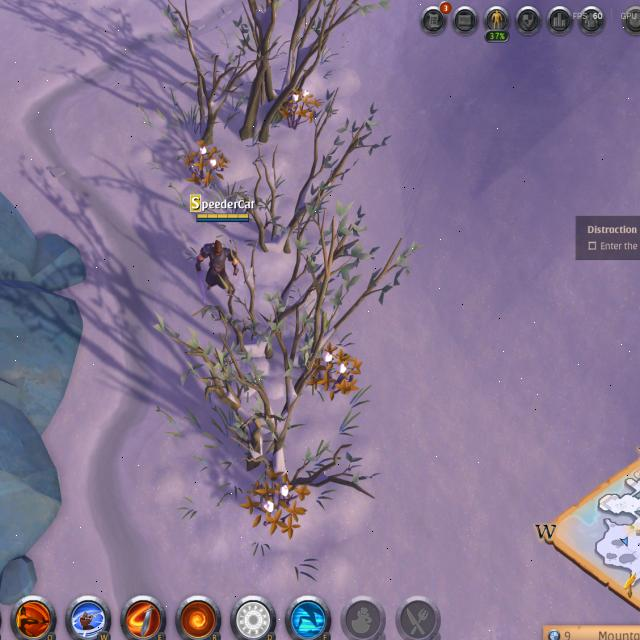cotton: (238, 465, 314, 542), (306, 342, 365, 402), (178, 138, 230, 191), (276, 83, 324, 129)
